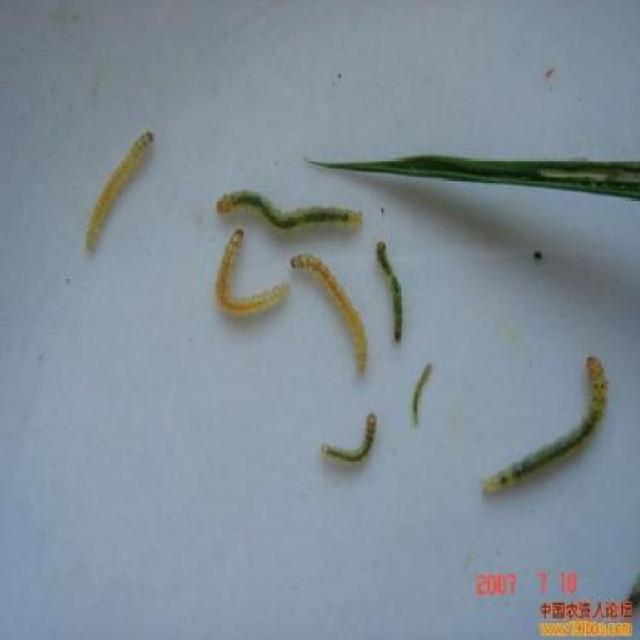leaf-folder: (477, 333, 618, 509), (272, 250, 380, 385), (66, 126, 168, 265), (200, 181, 374, 242), (211, 227, 280, 331), (371, 231, 418, 358), (316, 404, 387, 476), (407, 366, 444, 428)
